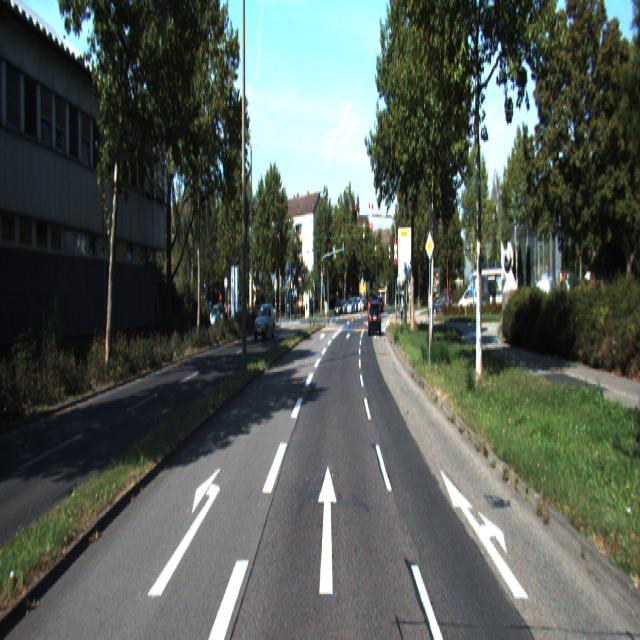Car: (253, 302, 275, 341), (368, 301, 381, 337)
